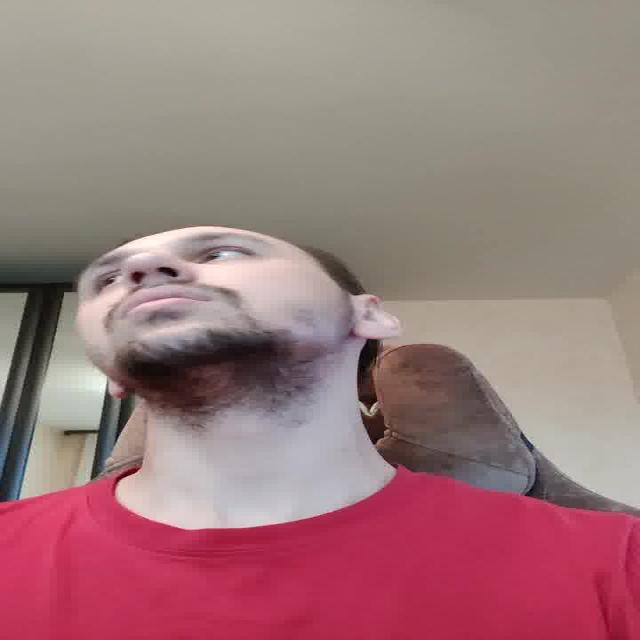earlobe: (355, 319, 389, 340), (106, 382, 128, 399)
eye: (192, 248, 254, 262), (95, 272, 123, 288)
nose: (126, 272, 197, 290)
wholeear: (355, 294, 406, 340)
